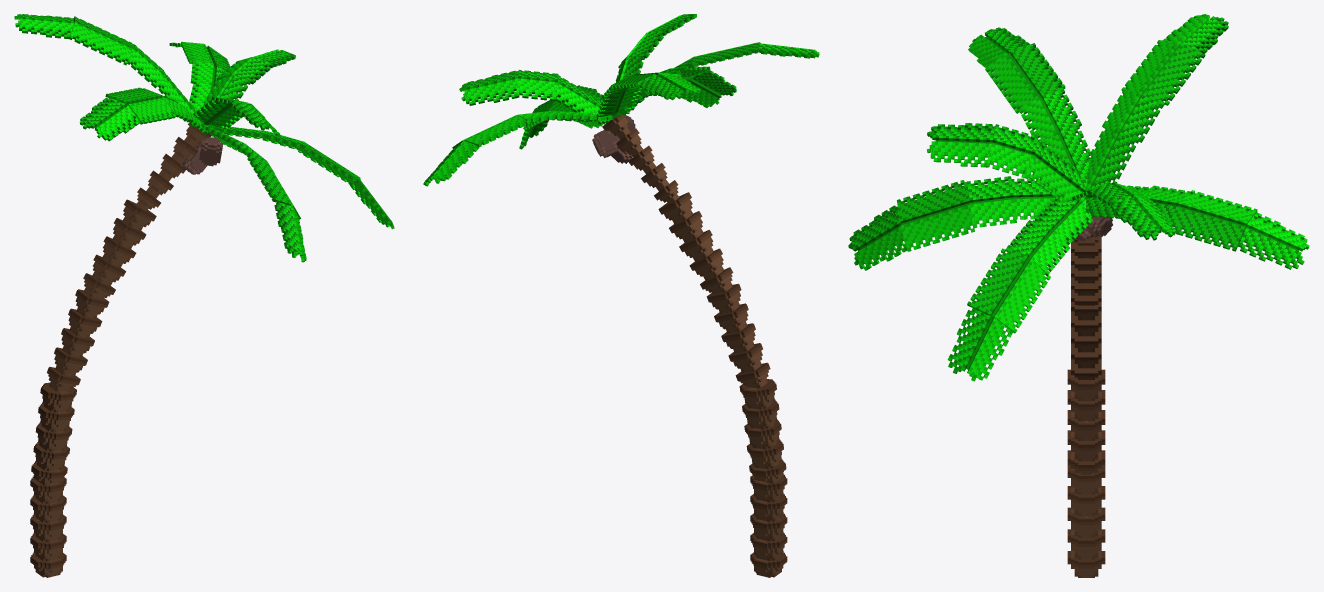
The model's file is Tree 10_2.glb.
The picture shows the model from 3 angles, left to right: view 1: azimuth 30°, elevation 25°; view 2: azimuth 150°, elevation 25°; view 3: azimuth 270°, elevation 25°; orthographic projection. The views are drawn at different scales.
Visible parts, largest first — view 1: c2-Local, Coconut$$tree 1-Local, c4-Local, c3-Local, c5-Local, s3$$(2)-Local, s3$$(3)-Local, Leaf03$$(3)-Local, s4$$(2)-Local, s4$$(3)-Local, Leaf04$$(3)-Local, Leaf04$$(2)-Local (+6 smaller); view 2: c2-Local, Coconut$$tree 1-Local, c4-Local, c3-Local, c5-Local, d3$$(1)-Local, s3-Local, d2$$(1)-Local, d1$$(1)-Local, Leaf04$$(3)-Local, Leaf03$$(2)-Local, s4-Local (+4 smaller); view 3: Coconut$$tree 1-Local, c2-Local, c3-Local, Leaf03-Local, Leaf03$$(5)-Local, s3$$(4)-Local, c4-Local, Leaf03$$(3)-Local, s3$$(1)-Local, Leaf03$$(1)-Local, Leaf03$$(2)-Local, s3$$(3)-Local (+35 smaller).
Part boxes in pixels (x1,y1,x2,y2): c2-Local: [31, 382, 76, 485]; Coconut$$tree 1-Local: [30, 475, 66, 577]; c4-Local: [83, 199, 156, 299]; c3-Local: [47, 289, 109, 391]; c5-Local: [136, 122, 211, 210]; s3$$(2)-Local: [69, 22, 134, 65]; s3$$(3)-Local: [127, 97, 175, 124]; Leaf03$$(3)-Local: [247, 155, 291, 207]; s4$$(2)-Local: [19, 18, 73, 38]; s4$$(3)-Local: [95, 106, 140, 141]; Leaf04$$(3)-Local: [274, 202, 300, 254]; Leaf04$$(2)-Local: [80, 97, 125, 130]; c2-Local: [739, 379, 786, 483]; Coconut$$tree 1-Local: [750, 473, 787, 577]; c4-Local: [658, 192, 733, 294]; c3-Local: [706, 283, 770, 388]; c5-Local: [602, 114, 679, 203]; d3$$(1)-Local: [464, 78, 519, 105]; s3-Local: [464, 115, 530, 147]; d2$$(1)-Local: [516, 78, 557, 101]; d1$$(1)-Local: [550, 83, 609, 124]; Leaf04$$(3)-Local: [688, 70, 736, 98]; Leaf03$$(2)-Local: [692, 42, 759, 66]; s4-Local: [432, 141, 478, 181]; Coconut$$tree 1-Local: [1067, 465, 1105, 577]; c2-Local: [1067, 369, 1105, 474]; c3-Local: [1071, 302, 1101, 379]; Leaf03-Local: [967, 247, 1029, 318]; Leaf03$$(5)-Local: [1169, 206, 1246, 251]; s3$$(4)-Local: [900, 204, 977, 251]; c4-Local: [1071, 236, 1101, 305]; Leaf03$$(3)-Local: [897, 180, 969, 225]; s3$$(1)-Local: [993, 258, 1050, 333]; Leaf03$$(1)-Local: [1141, 43, 1205, 106]; Leaf03$$(2)-Local: [1008, 43, 1065, 98]; s3$$(3)-Local: [985, 52, 1038, 113].
Bounding box in the file's own units: 117 × 186 × 136.
74 materials, 74 textured.
